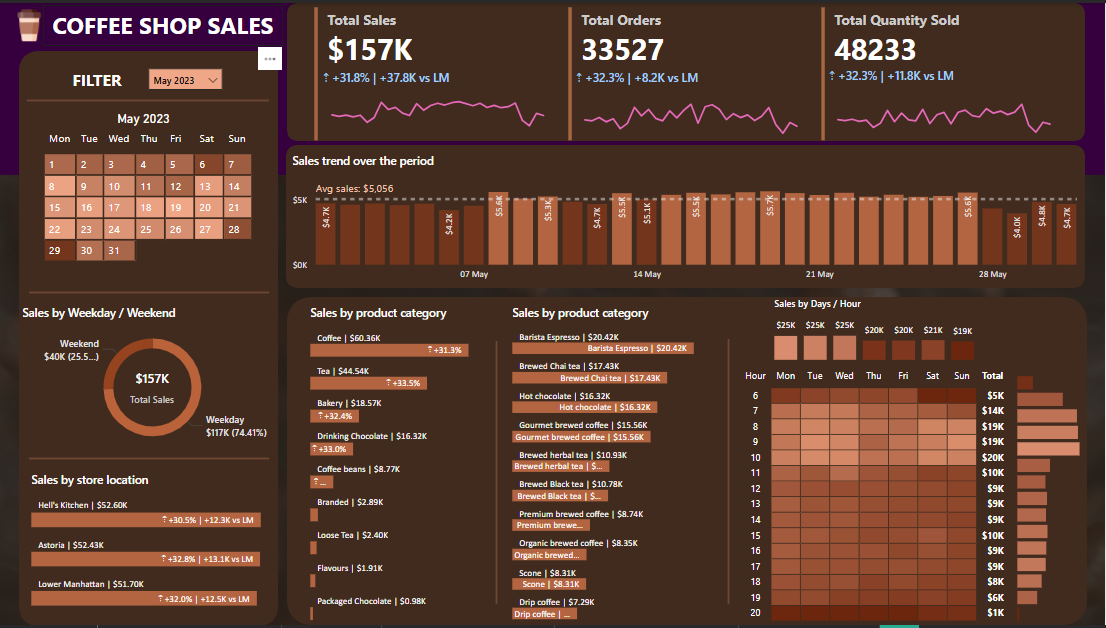

This screenshot's page, from the dashboard's own definition file:
{"tool":"powerbi","page":{"name":"Dashboard","canvas":[1280,720],"ordinal":1},"visuals":[{"type":"shape","box":[0,0,1280,199.1],"z":0},{"type":"shape","box":[23.2,55.6,299.8,665.6],"z":1000},{"type":"shape","box":[333.4,0,923.7,159.7],"z":2000},{"type":"textbox","box":[50.9,2.3,277.8,47.5],"z":3000},{"type":"cardVisual","fields":{"Data":["coffee_shop_sales.Total Sales"]},"box":[360,0,284.8,164.4],"z":4000,"group":"g3"},{"type":"slicer","fields":{"Values":["Date Table.Month Year"]},"box":[167.8,70.6,96.1,31.3],"z":4000},{"type":"pivotTable","fields":{"Rows":["Date Table.Week Number"],"Columns":["Date Table.Day Name"],"Values":["Min(Date Table.Day Number)"]},"box":[22,140.1,299.8,189.8],"z":5000},{"type":"lineChart","fields":{"Y":["coffee_shop_sales.Total Sales"],"Category":["Date Table.Date.Variation.Date Hierarchy.Year","Date Table.Date.Variation.Date Hierarchy.Quarter","Date Table.Date.Variation.Date Hierarchy.Month","Date Table.Date.Variation.Date Hierarchy.Day"]},"box":[369.9,78,274.9,86.3],"z":6000,"group":"g3"},{"type":"card","fields":{"Values":["Min(Date Table.Month Year)"]},"box":[125,120.4,84.5,28.9],"z":6000},{"type":"cardVisual","fields":{"Data":["coffee_shop_sales.Total Orders"]},"box":[653.4,0,284.8,164.4],"z":7000,"group":"g2"},{"type":"shape","box":[34.7,325.3,277.8,19.7],"z":7000},{"type":"cardVisual","fields":{"Data":["coffee_shop_sales.Total Quantity Sold"]},"box":[946.9,0,284.8,164.4],"z":8000,"group":"g1"},{"type":"shape","box":[32.4,104.2,280.1,17.4],"z":8000},{"type":"lineChart","fields":{"Category":["Date Table.Date.Variation.Date Hierarchy.Year","Date Table.Date.Variation.Date Hierarchy.Quarter","Date Table.Date.Variation.Date Hierarchy.Month","Date Table.Date.Variation.Date Hierarchy.Day"],"Y":["coffee_shop_sales.Total Orders"]},"box":[662.7,77.4,275.5,79.8],"z":9000,"group":"g2"},{"type":"donutChart","title":"Sales by Weekday / Weekend","fields":{"Category":["Date Table.Weekday or Weekend"],"Y":["coffee_shop_sales.Total Sales"]},"box":[22,349.7,311.2,173.7],"z":9000},{"type":"lineChart","fields":{"Category":["Date Table.Date.Variation.Date Hierarchy.Year","Date Table.Date.Variation.Date Hierarchy.Quarter","Date Table.Date.Variation.Date Hierarchy.Month","Date Table.Date.Variation.Date Hierarchy.Day"],"Y":["coffee_shop_sales.Total Quantity Sold"]},"box":[956.2,75.2,275.5,84.5],"z":10000,"group":"g1"},{"type":"card","fields":{"Values":["coffee_shop_sales.Total Sales"]},"box":[113.4,407.5,127.3,72.9],"z":10000},{"type":"clusteredBarChart","title":"Sales by store location","fields":{"Category":["coffee_shop_sales.store_location"],"Y":["coffee_shop_sales.Placeholder","coffee_shop_sales.Total Sales"]},"box":[32.4,542.9,301,162.1],"z":11000},{"type":"shape","box":[34.7,517.4,277.8,19.7],"z":12000},{"type":"shape","box":[332.2,164.4,924.9,165.5],"z":13000},{"type":"columnChart","title":"Sales trend over the period","fields":{"Category":["coffee_shop_sales.transaction_date"],"Y":["coffee_shop_sales.Total Sales"]},"box":[334.5,173.6,922.6,156.3],"z":14000},{"type":"shape","box":[333.4,340.3,926,379.7],"z":15000},{"type":"clusteredBarChart","title":"Sales by product category","fields":{"Y":["coffee_shop_sales.Placeholder","coffee_shop_sales.Total Sales"],"Category":["coffee_shop_sales.product_category"]},"box":[355.4,349.6,221.1,370.4],"z":16000},{"type":"shape","box":[569.5,391.3,12.7,304.4],"z":17000},{"type":"clusteredBarChart","title":"Sales by product category","fields":{"Y":["coffee_shop_sales.Placeholder","coffee_shop_sales.Total Sales"],"Category":["coffee_shop_sales.product_type"]},"box":[589.2,349.6,251.2,369.3],"z":18000},{"type":"shape","box":[838.1,388.9,12.7,306.8],"z":19000},{"type":"pivotTable","fields":{"Rows":["coffee_shop_sales.Hour"],"Columns":["Date Table.Day Name"],"Values":["coffee_shop_sales.Total Sales"]},"box":[853.1,417.9,320.6,302.1],"z":20000},{"type":"group","id":"g1","title":"Group 1","box":[946.9,0,284.8,164.4],"z":21000},{"type":"group","id":"g2","title":"Group 2","box":[653.4,0,284.8,164.4],"z":22000},{"type":"group","id":"g3","title":"Group 3","box":[360,0,284.8,164.4],"z":23000},{"type":"barChart","fields":{"Category":["coffee_shop_sales.Hour"],"Y":["coffee_shop_sales.Total Sales"]},"box":[1173.8,419,83.3,301],"z":24000},{"type":"columnChart","title":"Sales by Days / Hour","fields":{"Y":["coffee_shop_sales.Total Sales"],"Category":["Date Table.Day Name"]},"box":[892.5,340.3,241.9,78.7],"z":25000},{"type":"image","box":[3.5,2.3,62.5,47.5],"z":25001},{"type":"textbox","box":[75.2,70.6,76.4,38.2],"z":25002}]}

Visuals, with their boxes in screenshot pixels (x1, y1, x2, y2), scaled from the page's 1280x720 canvas onto the 1106x628 screenshot:
shape: {"left": 0, "top": 0, "right": 1105, "bottom": 174}
shape: {"left": 20, "top": 48, "right": 279, "bottom": 627}
shape: {"left": 288, "top": 0, "right": 1086, "bottom": 139}
textbox: {"left": 44, "top": 2, "right": 284, "bottom": 43}
cardVisual - coffee_shop_sales.Total Sales: {"left": 311, "top": 0, "right": 557, "bottom": 143}
slicer - Date Table.Month Year: {"left": 145, "top": 62, "right": 228, "bottom": 89}
pivotTable - Date Table.Week Number x Date Table.Day Name: {"left": 19, "top": 122, "right": 278, "bottom": 288}
lineChart - coffee_shop_sales.Total Sales x Date Table.Date.Variation.Date Hierarchy.Year: {"left": 320, "top": 68, "right": 557, "bottom": 143}
card - Min(Date Table.Month Year): {"left": 108, "top": 105, "right": 181, "bottom": 130}
cardVisual - coffee_shop_sales.Total Orders: {"left": 565, "top": 0, "right": 811, "bottom": 143}
shape: {"left": 30, "top": 284, "right": 270, "bottom": 301}
cardVisual - coffee_shop_sales.Total Quantity Sold: {"left": 818, "top": 0, "right": 1064, "bottom": 143}
shape: {"left": 28, "top": 91, "right": 270, "bottom": 106}
lineChart - Date Table.Date.Variation.Date Hierarchy.Year x Date Table.Date.Variation.Date Hierarchy.Quarter: {"left": 573, "top": 68, "right": 811, "bottom": 137}
"Sales by Weekday / Weekend" donutChart: {"left": 19, "top": 305, "right": 288, "bottom": 457}
lineChart - Date Table.Date.Variation.Date Hierarchy.Year x Date Table.Date.Variation.Date Hierarchy.Quarter: {"left": 826, "top": 66, "right": 1064, "bottom": 139}
card - coffee_shop_sales.Total Sales: {"left": 98, "top": 355, "right": 208, "bottom": 419}
"Sales by store location" clusteredBarChart: {"left": 28, "top": 474, "right": 288, "bottom": 615}
shape: {"left": 30, "top": 451, "right": 270, "bottom": 468}
shape: {"left": 287, "top": 143, "right": 1086, "bottom": 288}
"Sales trend over the period" columnChart: {"left": 289, "top": 151, "right": 1086, "bottom": 288}
shape: {"left": 288, "top": 297, "right": 1088, "bottom": 627}
"Sales by product category" clusteredBarChart: {"left": 307, "top": 305, "right": 498, "bottom": 627}
shape: {"left": 492, "top": 341, "right": 503, "bottom": 607}
"Sales by product category" clusteredBarChart: {"left": 509, "top": 305, "right": 726, "bottom": 627}
shape: {"left": 724, "top": 339, "right": 735, "bottom": 607}
pivotTable - coffee_shop_sales.Hour x Date Table.Day Name: {"left": 737, "top": 365, "right": 1014, "bottom": 627}
"Group 1" group: {"left": 818, "top": 0, "right": 1064, "bottom": 143}
"Group 2" group: {"left": 565, "top": 0, "right": 811, "bottom": 143}
"Group 3" group: {"left": 311, "top": 0, "right": 557, "bottom": 143}
barChart - coffee_shop_sales.Hour x coffee_shop_sales.Total Sales: {"left": 1014, "top": 365, "right": 1086, "bottom": 627}
"Sales by Days / Hour" columnChart: {"left": 771, "top": 297, "right": 980, "bottom": 365}
image: {"left": 3, "top": 2, "right": 57, "bottom": 43}
textbox: {"left": 65, "top": 62, "right": 131, "bottom": 95}
